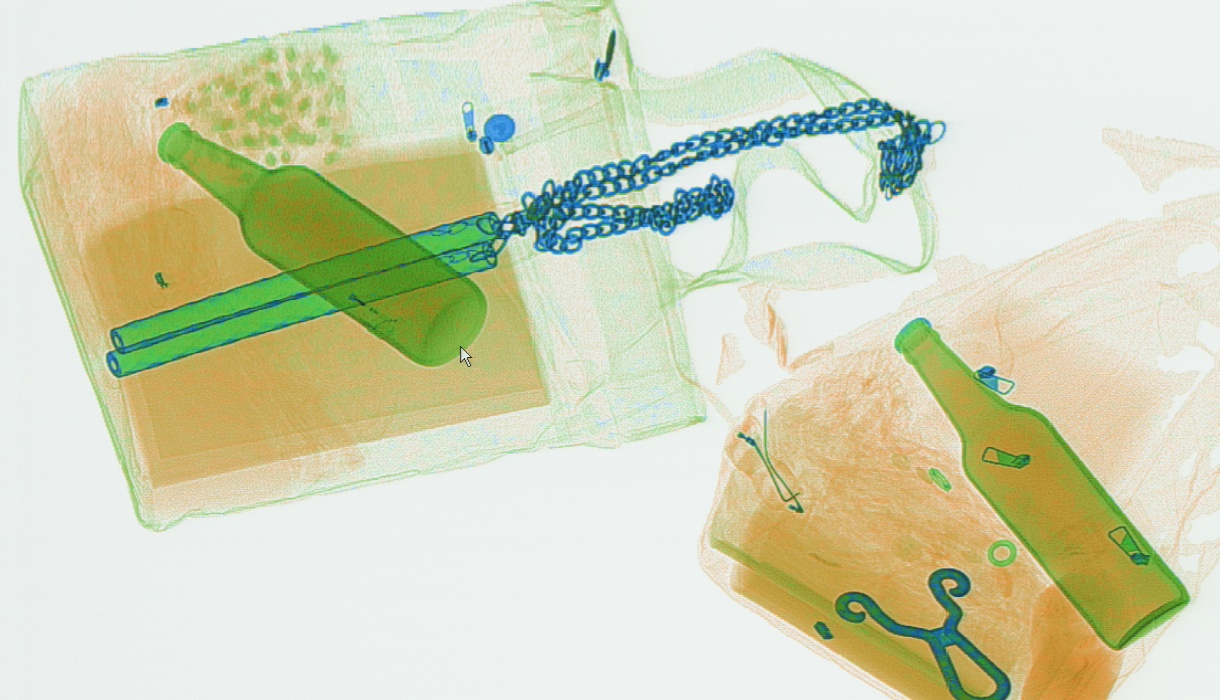firecrackers: (180, 39, 355, 175)
slingshot: (831, 562, 1010, 695)
